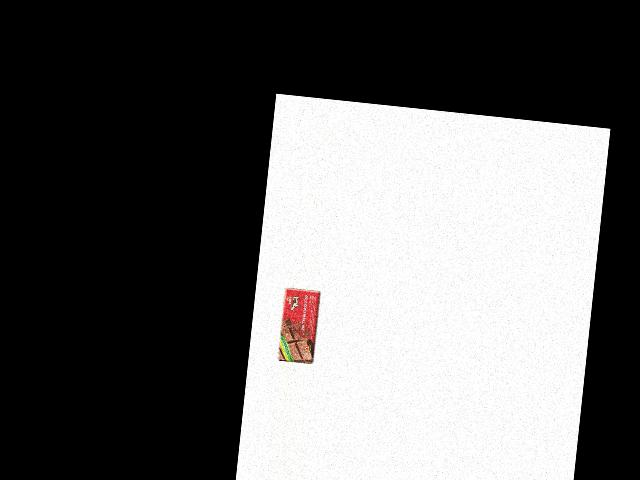chocolate: (276, 285, 322, 364)
